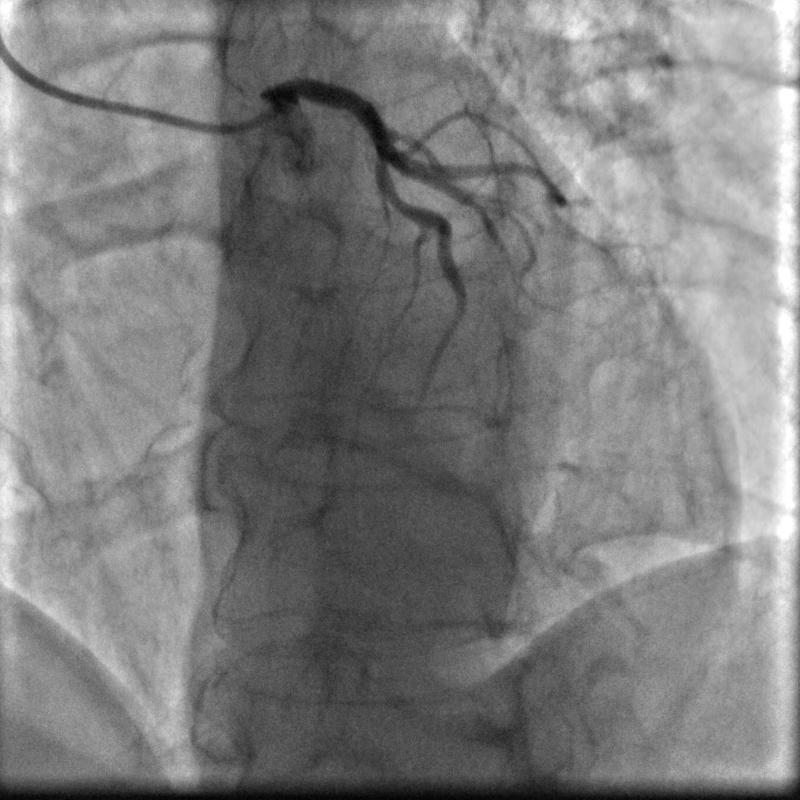Stenosis: (379, 185, 407, 205)
